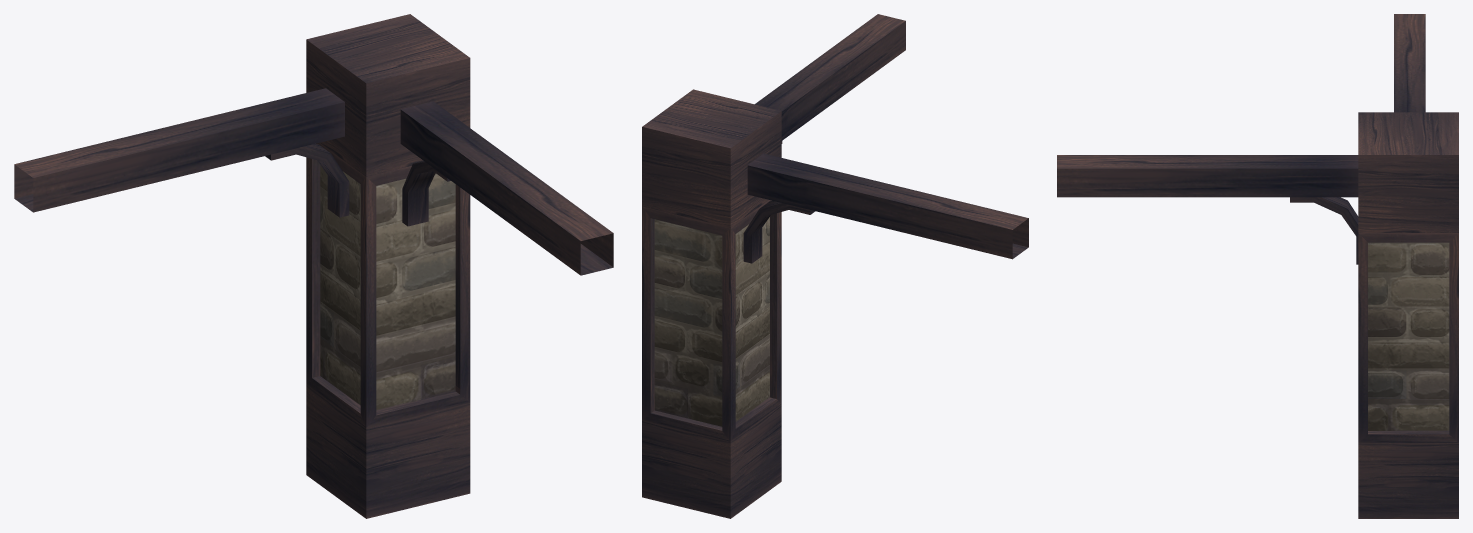
Rendered from Pillar_x1_2Ways.fbx.
3 renders of one model, left to right at view 1: azimuth 30°, elevation 25°; view 2: azimuth 150°, elevation 25°; view 3: azimuth 270°, elevation 25°, orthographic. The views are drawn at different scales.
Parts seen in each view (by area): view 1: Pillar_x1_2Ways; view 2: Pillar_x1_2Ways; view 3: Pillar_x1_2Ways.
Boxes of the visible parts, x1,y1,x2,y2 form: Pillar_x1_2Ways: (14, 14, 613, 518); Pillar_x1_2Ways: (642, 14, 1028, 518); Pillar_x1_2Ways: (1057, 14, 1458, 518).
Bounding box in the file's own units: 0.6259 × 0.6265 × 0.6266.
